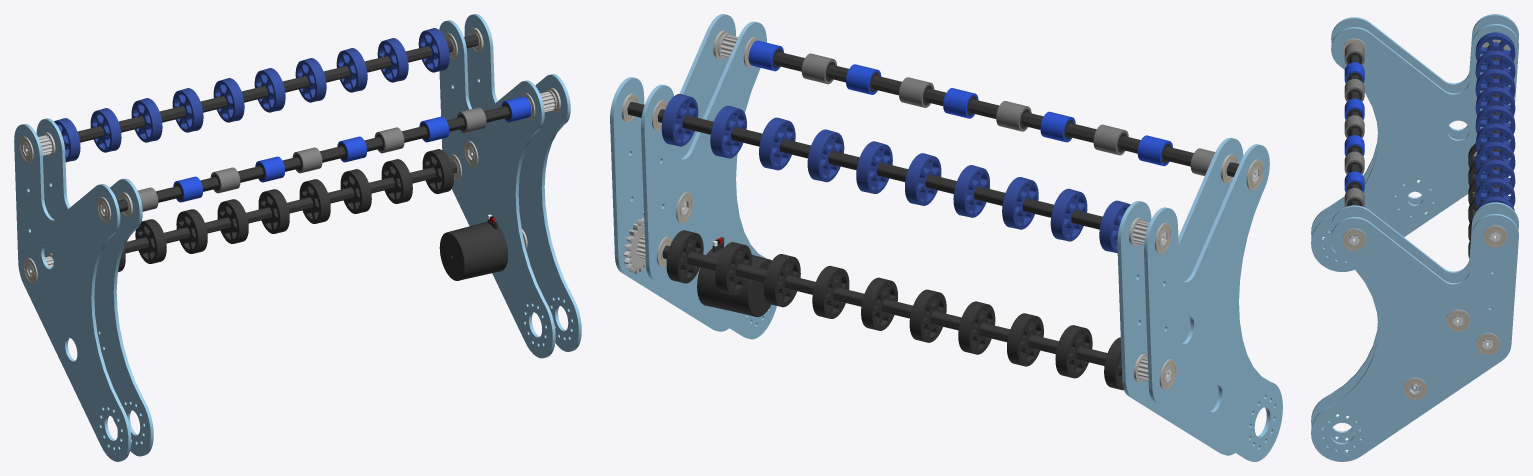
The picture shows the model from 3 angles, left to right: view 1: azimuth 30°, elevation 25°; view 2: azimuth 150°, elevation 25°; view 3: azimuth 270°, elevation 25°; orthographic projection. The views are drawn at different scales.
Parts seen in each view (by area): view 1: 5655-30-10 (4 ADET) (×2), 5655-30-3 (4 ADET) (×2), 2" Compliant Wheel (50A, 3/4" Wide, 1/2" Hex Stretch Bore) (×10), 2" Thrifty Squish Wheel (45A, 1" Wide, 1/2" Hex Bore) (×8), 1/2" Rounded Hex (24.0157"L 13.75mm OD) (×3), NEO Brushless Motor V1.1; view 2: 5655-30-10 (4 ADET) (×2), 5655-30-3 (4 ADET) (×2), 2" Thrifty Squish Wheel (45A, 1" Wide, 1/2" Hex Bore) (×10), 2" Compliant Wheel (50A, 3/4" Wide, 1/2" Hex Stretch Bore) (×10), 1/2" Rounded Hex (24.0157"L 13.75mm OD) (×3), Sushi Roller (50A, 1/2" Hex Bore) (×5), Sushi Roller (80A, 1/2" Hex Bore) (×4), NEO Brushless Motor V1.1, D??L? KASNAK; view 3: 5655-30-10 (4 ADET) (×2), 5655-30-3 (4 ADET) (×2), 2" Compliant Wheel (50A, 3/4" Wide, 1/2" Hex Stretch Bore) (×10), 1/2" Hex Bore Bearing (1.125" OD, 0.313" WD, Shielded, Flang (×5), Sushi Roller (80A, 1/2" Hex Bore) (×5), Sushi Roller (50A, 1/2" Hex Bore) (×4), 1/2" Rounded Hex (24.0157"L 13.75mm OD) (×2).
Boxes of the visible parts, box(x1,y1,x2,y2) form: 5655-30-10 (4 ADET) (×2): box(14, 14, 581, 461); 5655-30-3 (4 ADET) (×2): box(36, 20, 555, 456); 2" Compliant Wheel (50A, 3/4" Wide, 1/2" Hex Stretch Bore) (×10): box(54, 28, 449, 162); 2" Thrifty Squish Wheel (45A, 1" Wide, 1/2" Hex Bore) (×8): box(135, 149, 453, 263); 1/2" Rounded Hex (24.0157"L 13.75mm OD) (×3): box(24, 34, 509, 276); NEO Brushless Motor V1.1: box(439, 214, 507, 280); 5655-30-10 (4 ADET) (×2): box(610, 14, 1282, 461); 5655-30-3 (4 ADET) (×2): box(641, 21, 1243, 455); 2" Thrifty Squish Wheel (45A, 1" Wide, 1/2" Hex Bore) (×10): box(666, 230, 1123, 390); 2" Compliant Wheel (50A, 3/4" Wide, 1/2" Hex Stretch Bore) (×10): box(661, 93, 1130, 253); 1/2" Rounded Hex (24.0157"L 13.75mm OD) (×3): box(627, 52, 1258, 381); Sushi Roller (50A, 1/2" Hex Bore) (×5): box(748, 40, 1172, 166); Sushi Roller (80A, 1/2" Hex Bore) (×4): box(801, 53, 1128, 155); NEO Brushless Motor V1.1: box(697, 237, 771, 316); D??L? KASNAK: box(623, 218, 645, 273); 5655-30-10 (4 ADET) (×2): box(1311, 14, 1518, 461); 5655-30-3 (4 ADET) (×2): box(1311, 24, 1518, 450); 2" Compliant Wheel (50A, 3/4" Wide, 1/2" Hex Stretch Bore) (×10): box(1475, 32, 1515, 210); 1/2" Hex Bore Bearing (1.125" OD, 0.313" WD, Shielded, Flang (×5): box(1342, 225, 1507, 400); Sushi Roller (80A, 1/2" Hex Bore) (×5): box(1344, 42, 1364, 206); Sushi Roller (50A, 1/2" Hex Bore) (×4): box(1344, 62, 1364, 192); 1/2" Rounded Hex (24.0157"L 13.75mm OD) (×2): box(1349, 42, 1500, 244).
Size of the model in its own units: 0.6111 by 0.3479 by 0.2655.
